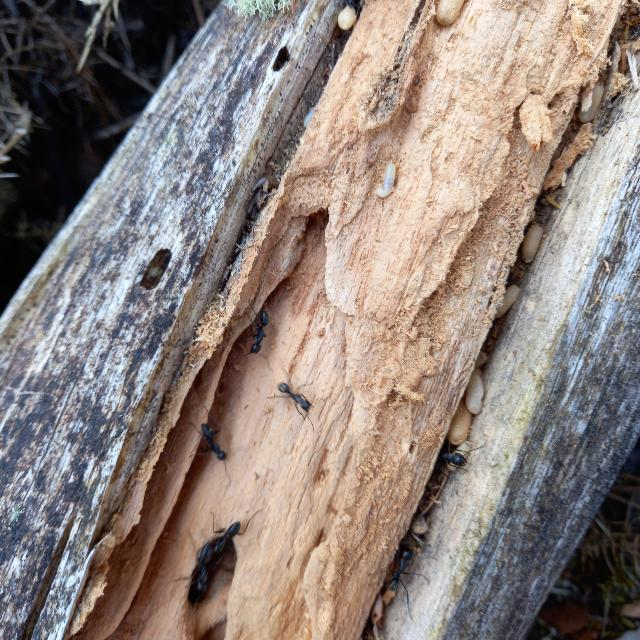Camponotus: (267, 376, 327, 418), (380, 541, 414, 613), (242, 312, 284, 368), (190, 422, 238, 470), (206, 514, 250, 554), (422, 434, 466, 474)
